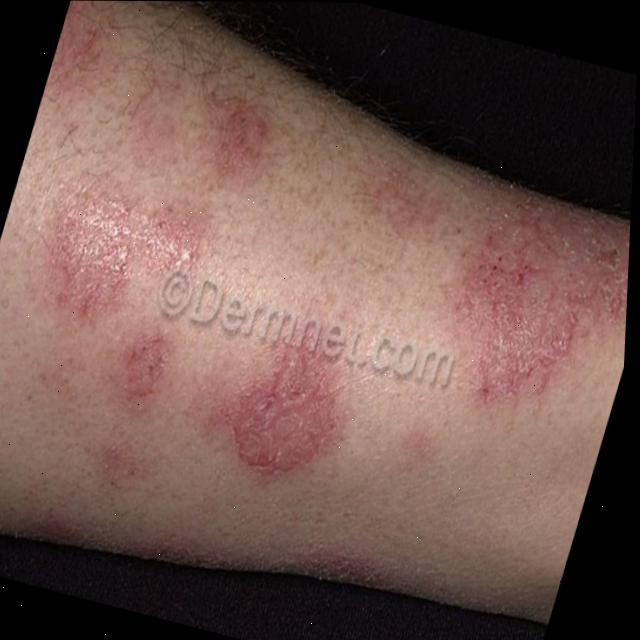Eczema: (0, 162, 219, 419), (430, 189, 632, 425), (204, 325, 371, 504), (191, 85, 280, 196)
